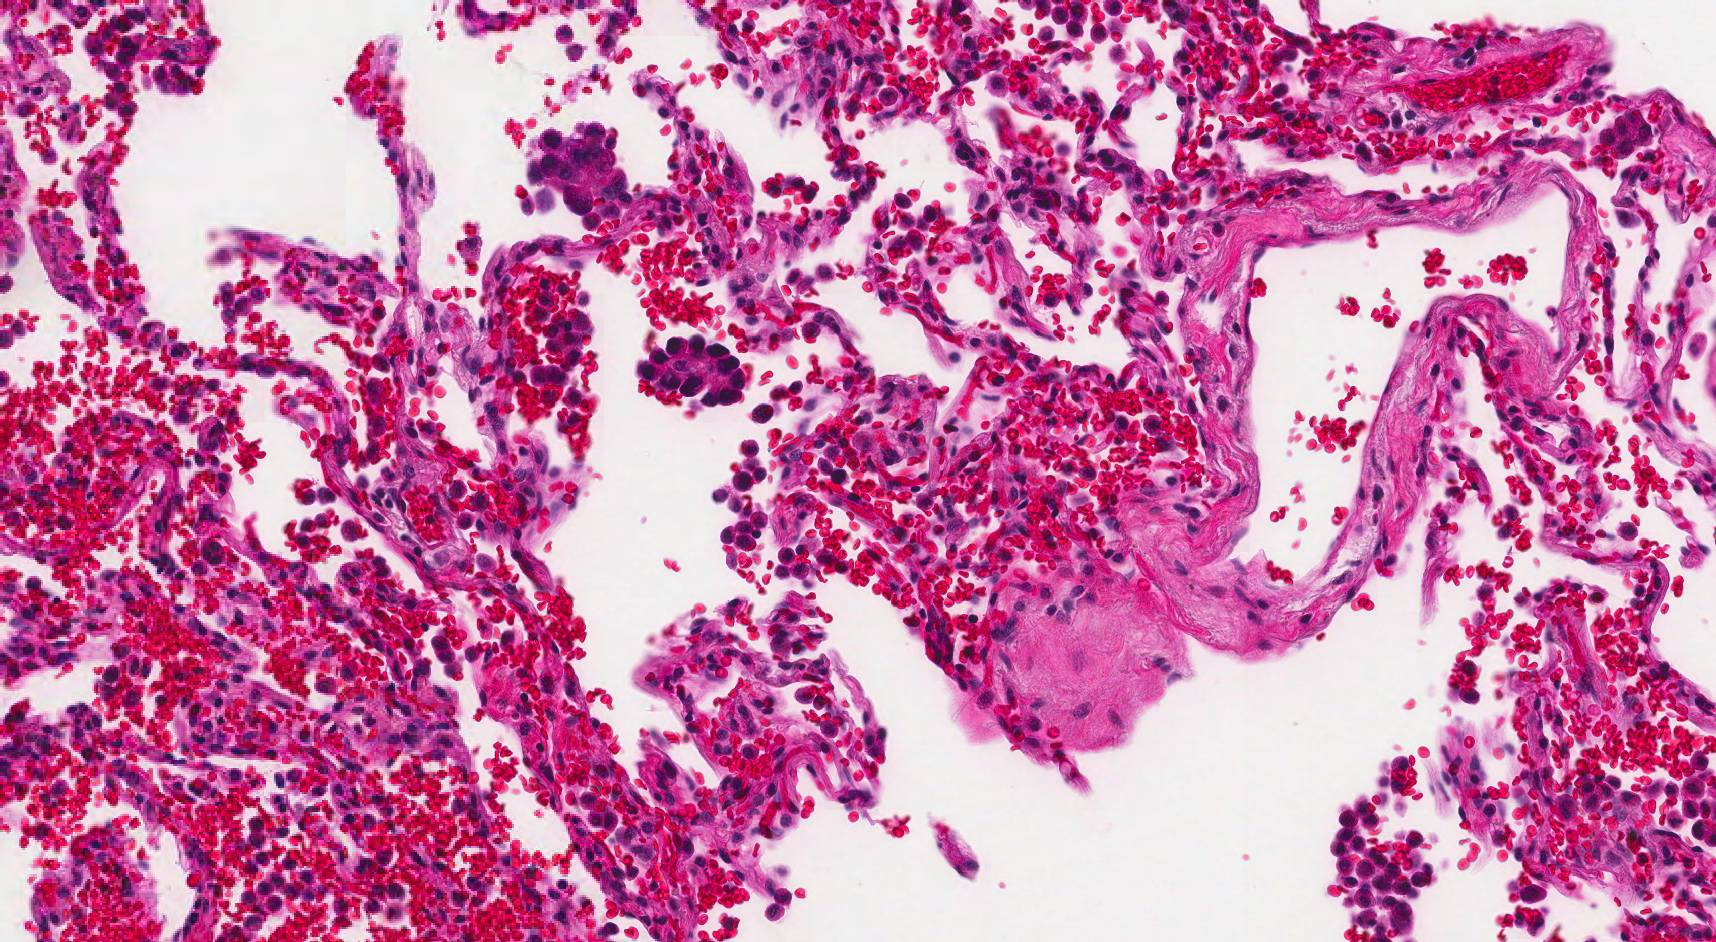stas: (529, 121, 634, 216), (633, 331, 744, 407)
